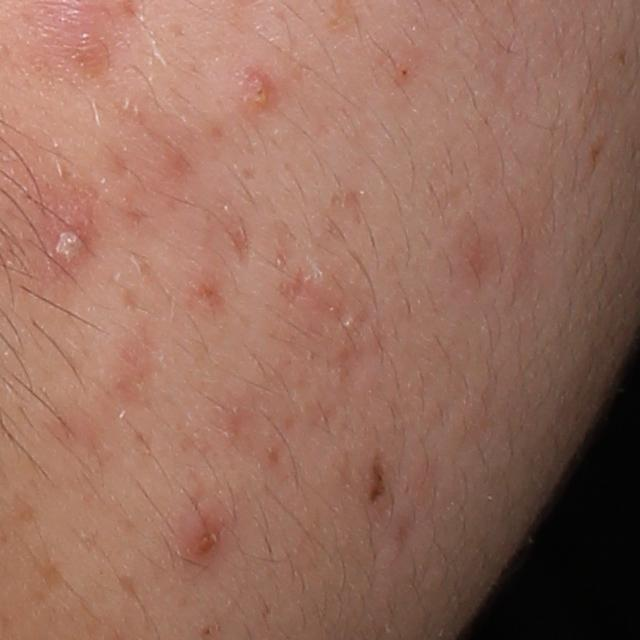comedo: (199, 624, 213, 638)
nevus: (366, 453, 386, 508)
papule: (181, 515, 225, 565), (242, 69, 276, 111)
